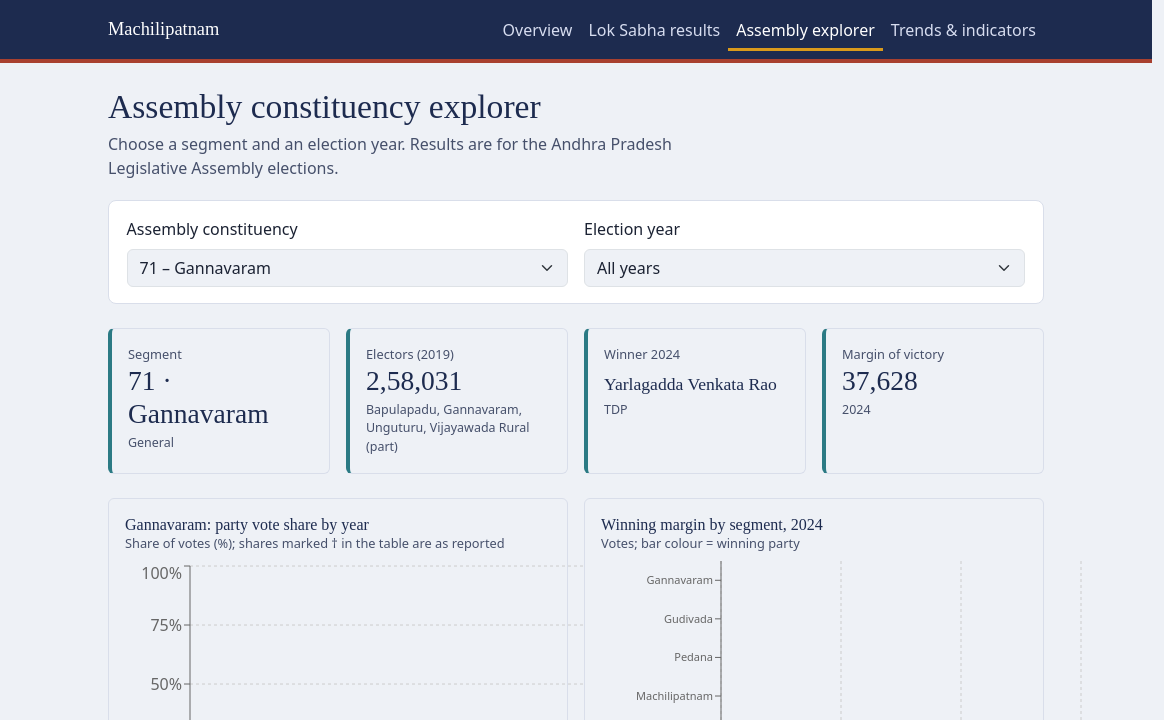
Test: Dashboard › shows a clear message when a segment has no result for the chosen year
Expected: the heading "Assembly constituency explorer" is shown, [108,88,541,125]
Select "2009" in the dropdown labelled "Election year": (805, 268) [584,248,1025,286]
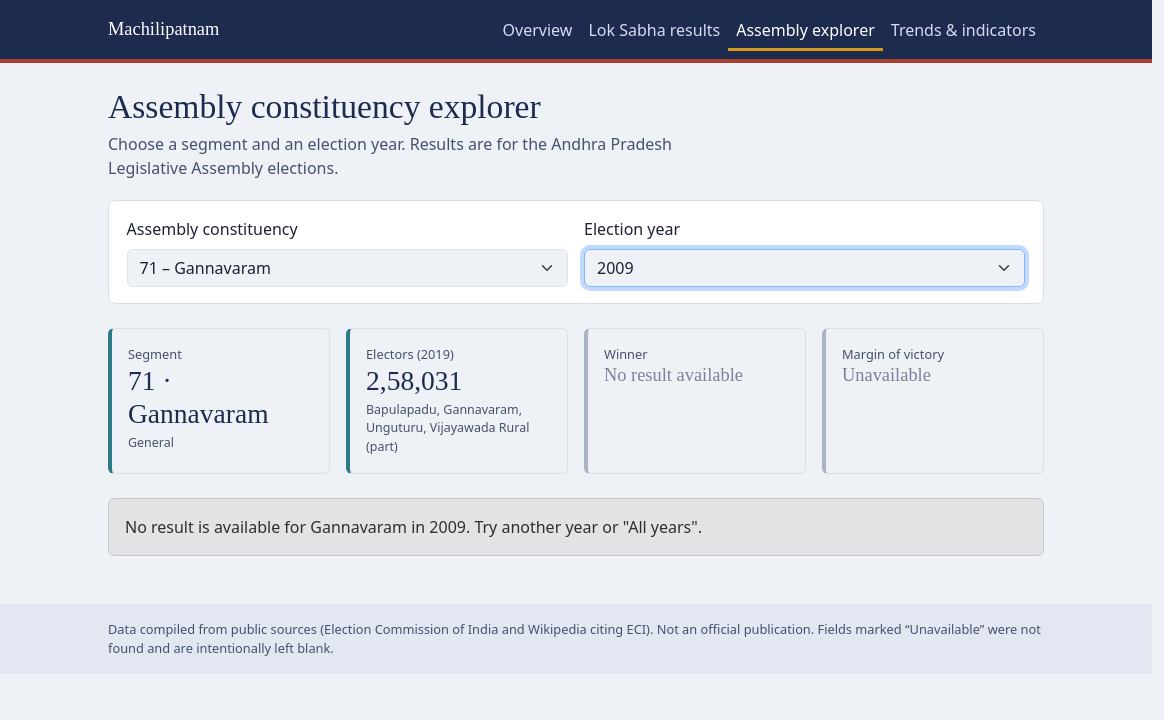
Expected: the text "No result is available for Gannavaram in 2009" is shown, [125,516,702,538]
